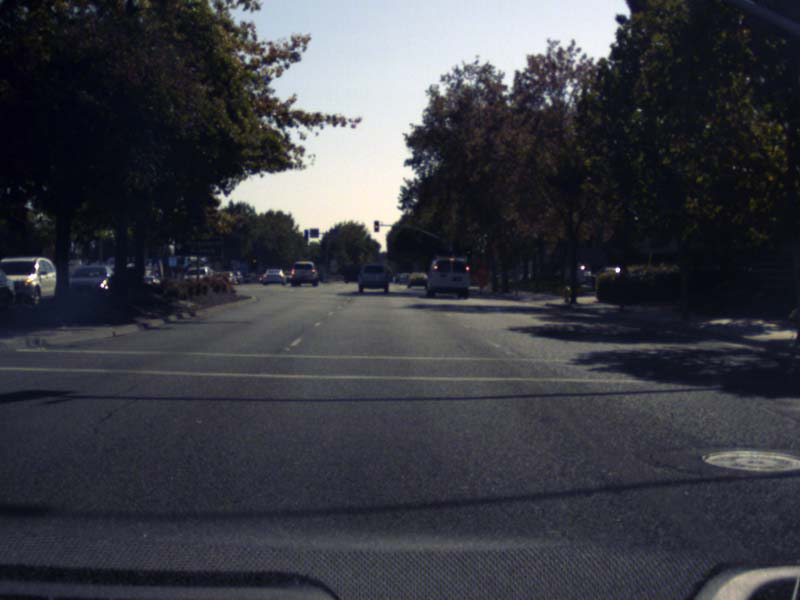Red: (252, 257, 258, 271)
Yellow: (374, 220, 379, 232)
